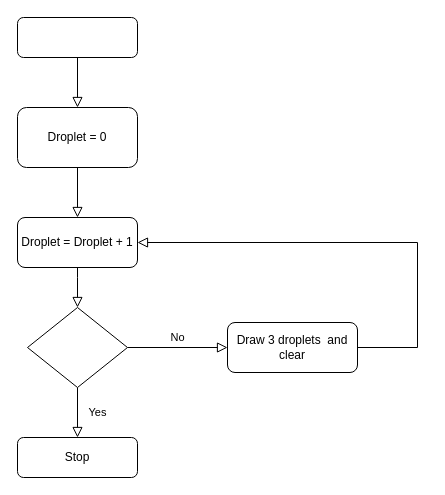
Image size: 445x495. Some labels were removed from this diagram. Here are the shapes that lost their labels. From the top down, the centre of each, then its label:
At pixel 77 37: "Start".
At pixel 77 347: "Is Droplet == 5".
